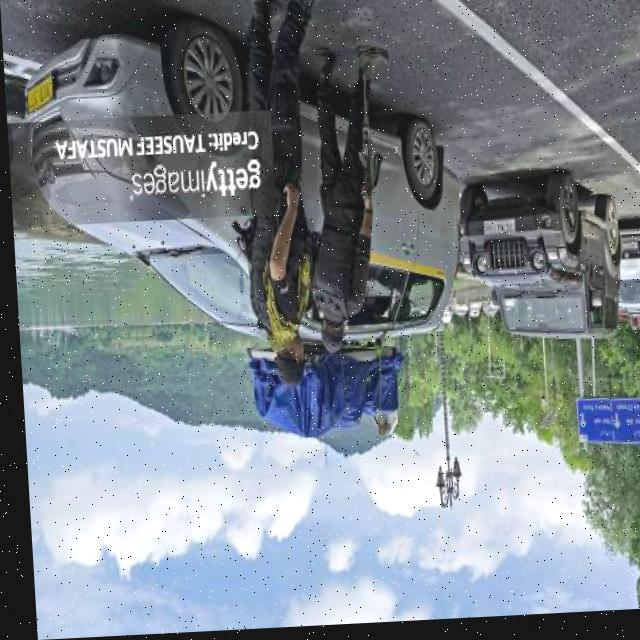plate: (20, 69, 60, 122), (479, 220, 515, 243), (614, 243, 638, 261)
